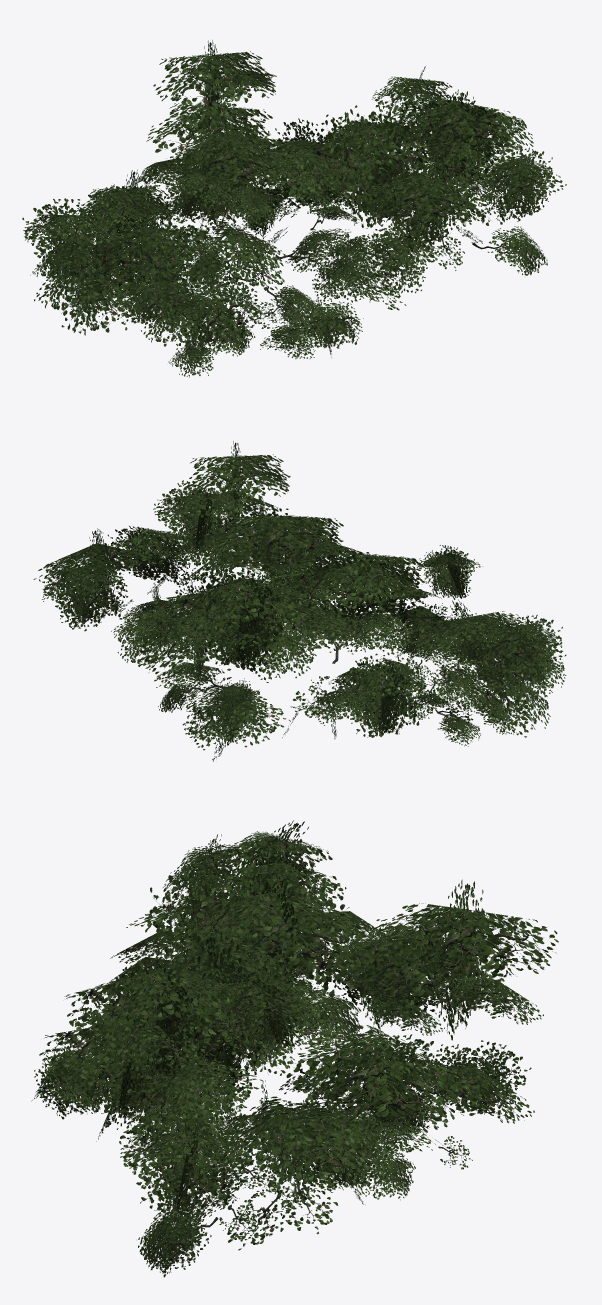
The model's file is SM_OaktreeCanopy.FBX.
3 renders of one model, top to bottom at view 1: azimuth 30°, elevation 25°; view 2: azimuth 150°, elevation 25°; view 3: azimuth 270°, elevation 25°, orthographic. The views are drawn at different scales.
Parts seen in each view (by area): view 1: SM_OaktreeCanopy; view 2: SM_OaktreeCanopy; view 3: SM_OaktreeCanopy.
Part boxes in pixels (x1=…): SM_OaktreeCanopy: x1=22, y1=40, x2=566, y2=377; SM_OaktreeCanopy: x1=33, y1=441, x2=566, y2=761; SM_OaktreeCanopy: x1=31, y1=820, x2=558, y2=1277.
Size of what is drawn, in the model's own units: 1670 by 1155 by 701.
